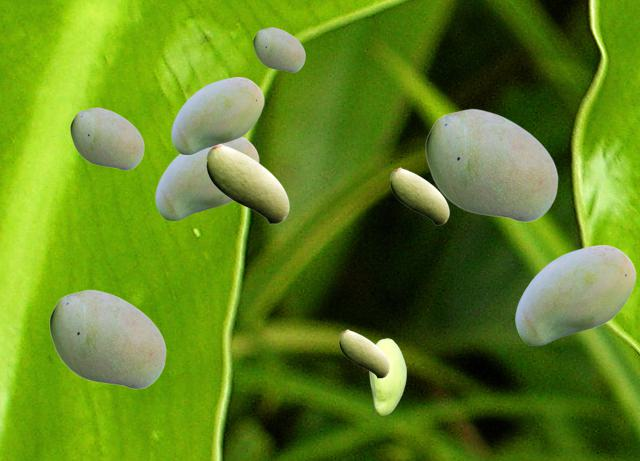green_mango: (425, 108, 557, 221), (515, 245, 635, 344), (49, 289, 165, 388), (155, 137, 258, 219), (171, 77, 263, 153), (206, 143, 288, 223), (70, 107, 143, 169), (390, 167, 448, 224), (369, 338, 405, 414), (339, 329, 388, 377), (253, 27, 304, 71)
